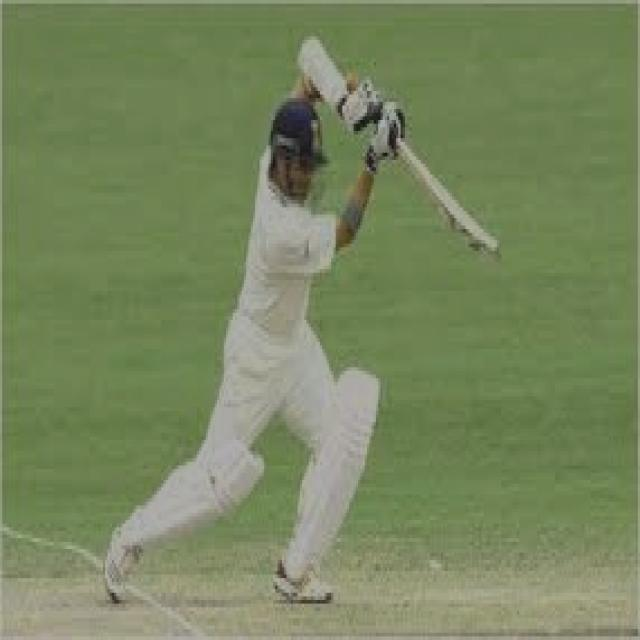bat: (390, 133, 503, 262)
toe: (483, 238, 505, 263)
